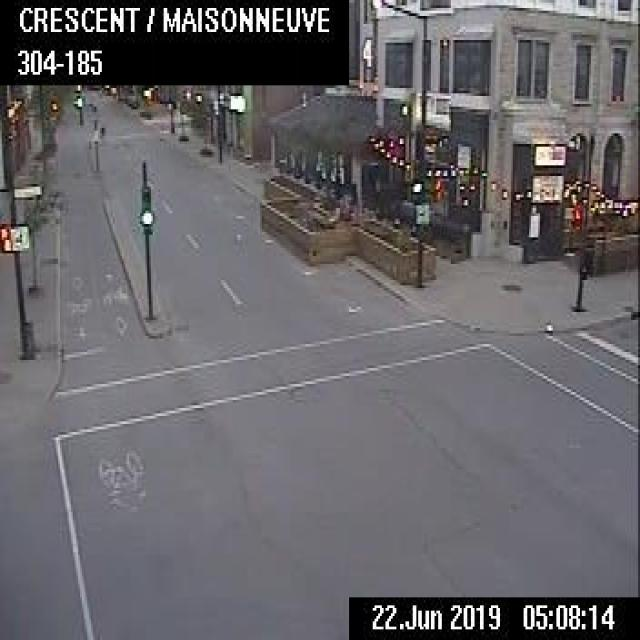vehicle: (80, 85, 96, 104)
